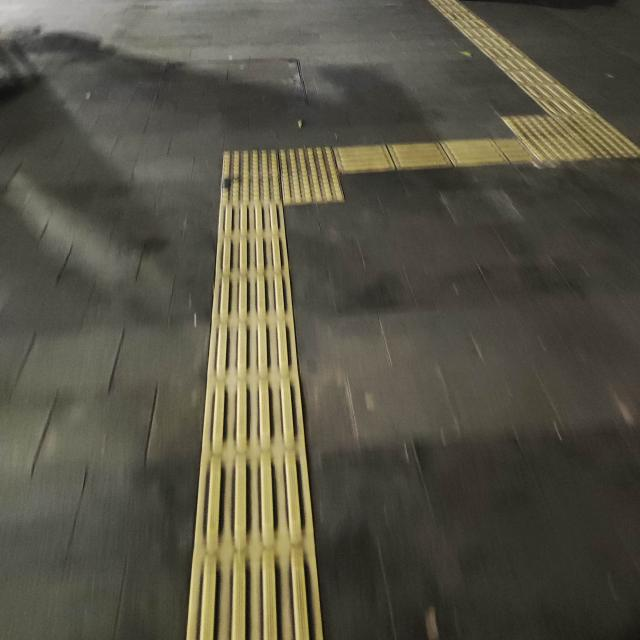kanan: (194, 133, 426, 226)
